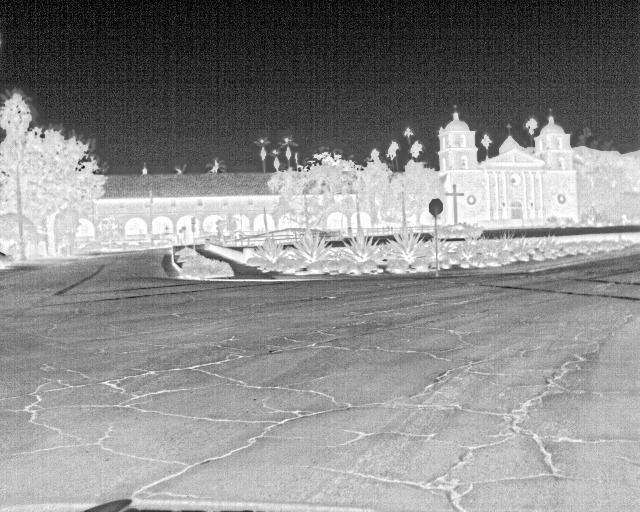car: (0, 250, 13, 271)
